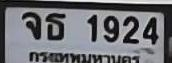1: (87, 14, 96, 41)
2: (122, 15, 138, 43)
4: (142, 16, 157, 44)
9: (103, 15, 118, 41)
A08: (21, 11, 40, 39)
A24: (45, 12, 65, 39)
